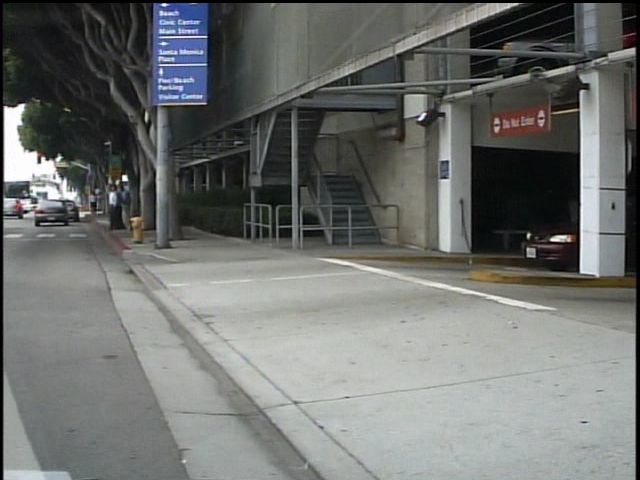person: (93, 187, 109, 221)
